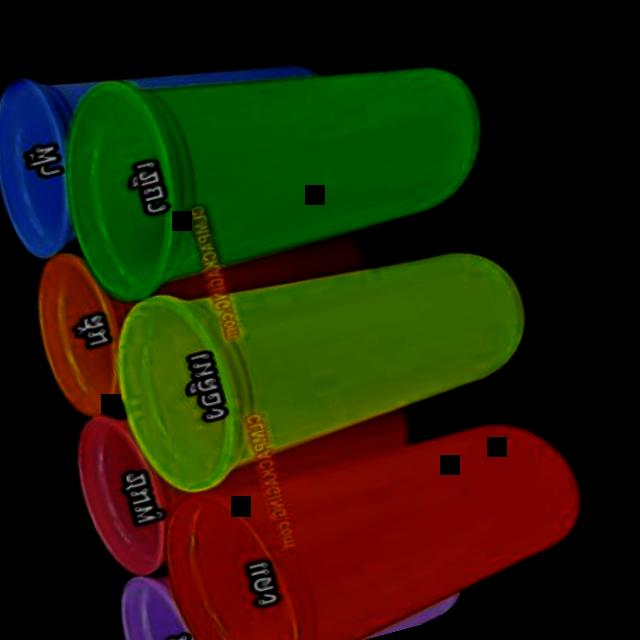plastic_cup: (0, 7, 458, 640), (39, 0, 503, 303), (97, 204, 545, 504), (147, 399, 605, 640)
